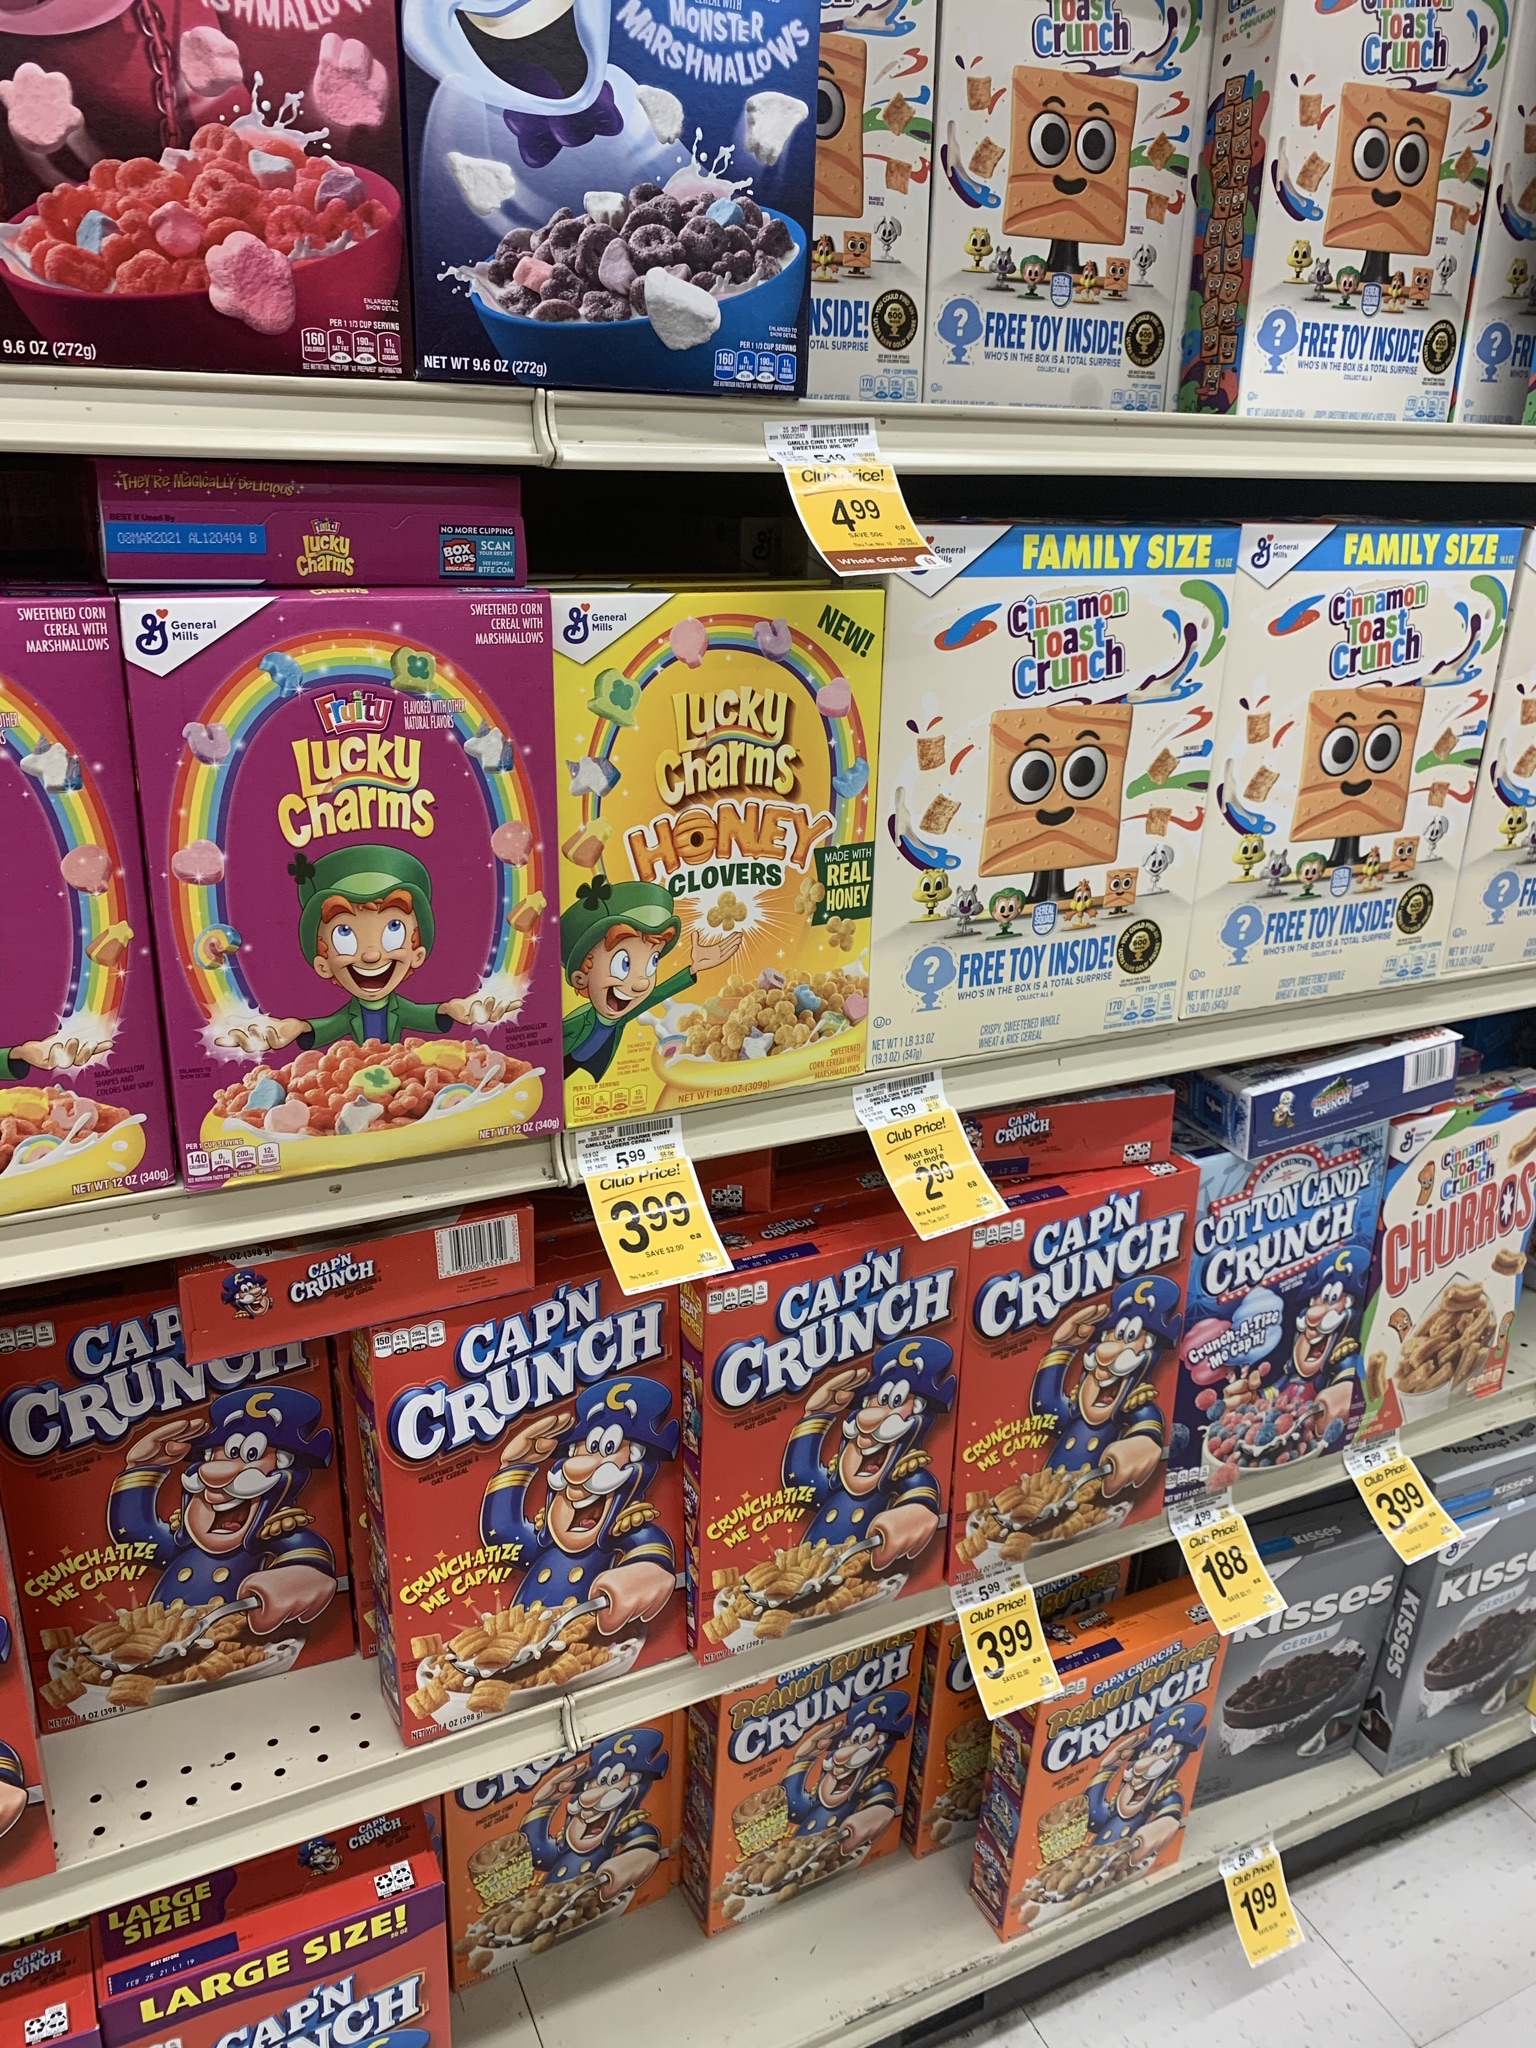cereal: (123, 601, 552, 1134), (545, 598, 870, 1098), (897, 534, 1179, 1043), (361, 1332, 695, 1698), (2, 1306, 353, 1643), (1208, 518, 1447, 989), (945, 2, 1170, 427), (1276, 2, 1488, 453), (694, 1279, 952, 1634), (979, 1222, 1176, 1567), (703, 1653, 937, 1927), (1199, 1174, 1367, 1500), (1028, 1688, 1204, 1885)
